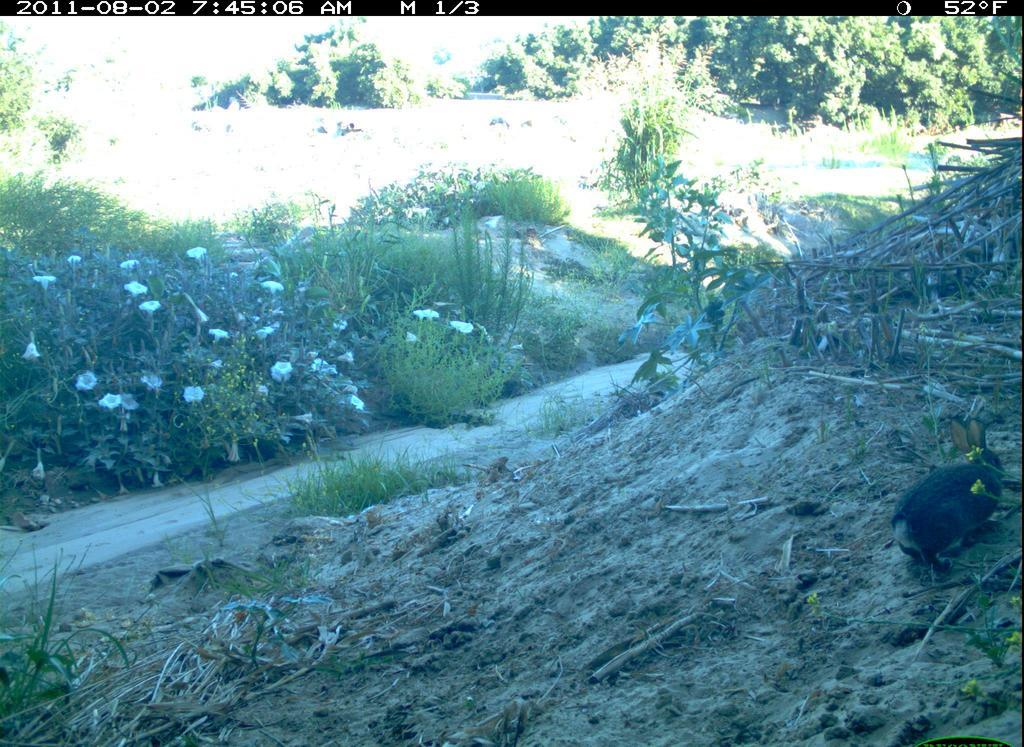rabbit: (886, 413, 1010, 579)
